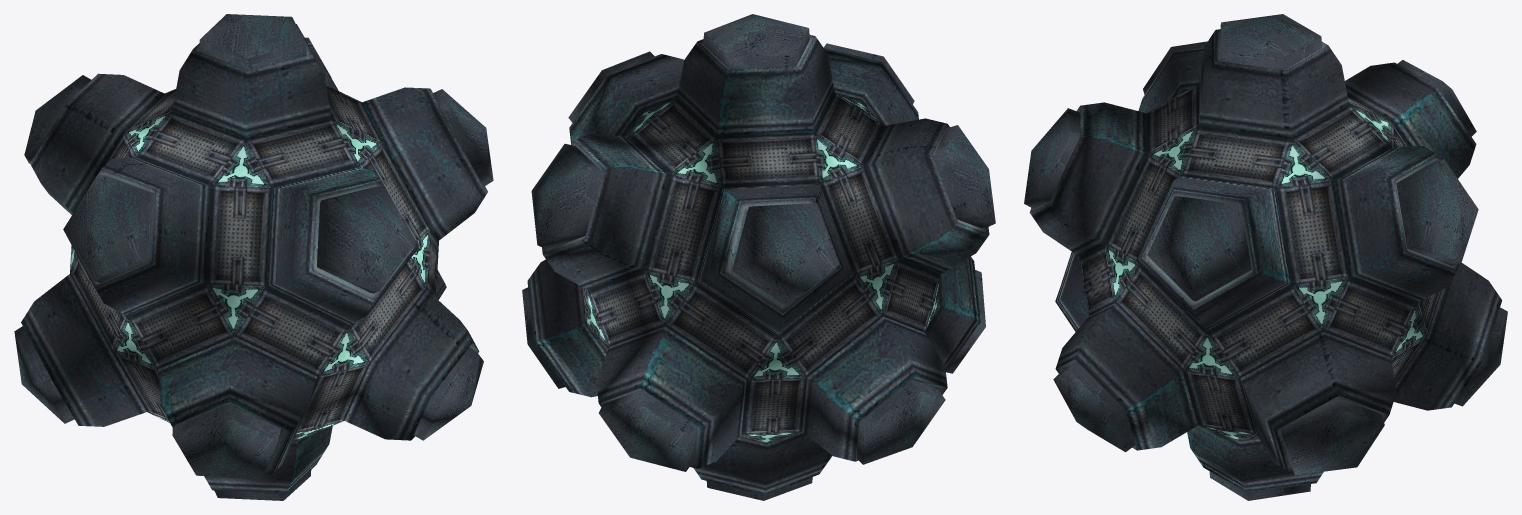
The model's file is rollermine.fbx.
3 renders of one model, left to right at view 1: azimuth 30°, elevation 25°; view 2: azimuth 150°, elevation 25°; view 3: azimuth 270°, elevation 25°, orthographic.
Visible parts, largest first — view 1: Rollermine:null_1; view 2: Rollermine:null_1; view 3: Rollermine:null_1.
Boxes of the visible parts, left/top/right/bottom form: Rollermine:null_1: left=14, top=14, right=493, bottom=500; Rollermine:null_1: left=522, top=14, right=995, bottom=500; Rollermine:null_1: left=1024, top=14, right=1507, bottom=500.
Bounding box in the file's own units: 21.93 × 25.11 × 23.06.
